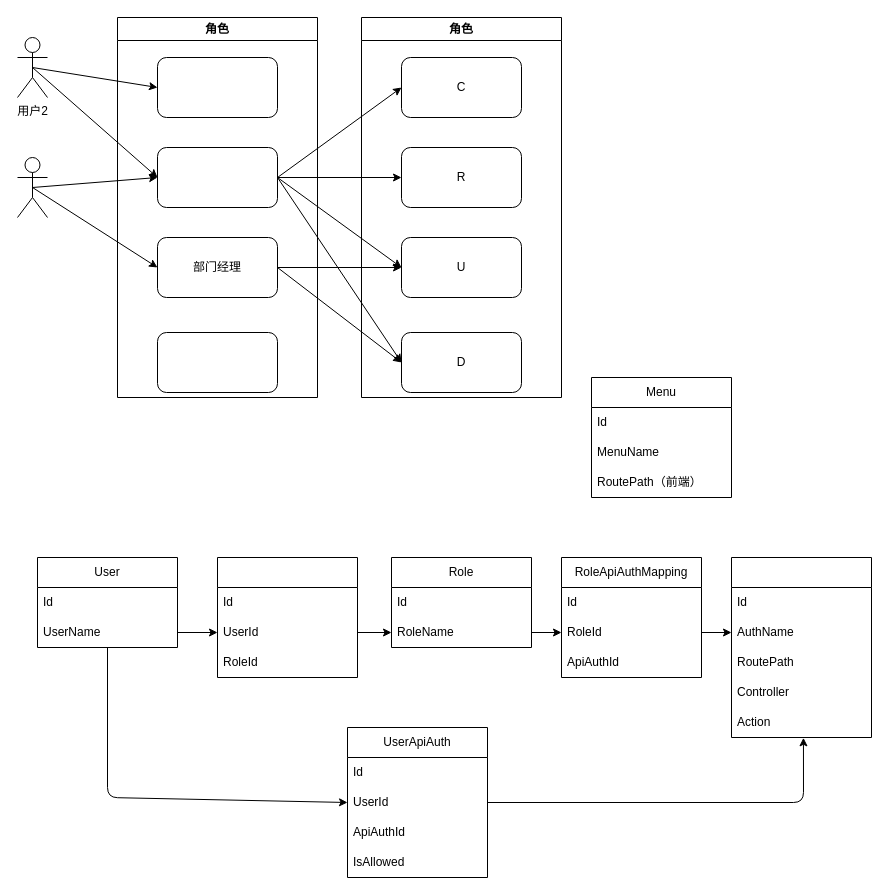
Some shapes in this 889 by 895 pixel diagram are drawn without their labels. Here are the shapes that lost their labels. From the top down, the box of each, then its label:
(156, 56, 278, 118): 总经理
(16, 156, 48, 218): 用户1
(156, 146, 278, 208): 总裁
(156, 332, 278, 392): 科长
(216, 556, 358, 678): RoleMapping
(730, 556, 872, 738): ApiAuth
